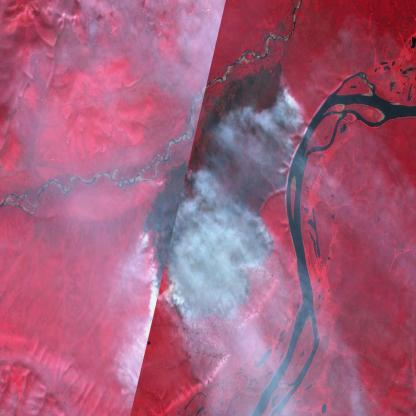fire: (136, 216, 278, 327), (274, 74, 306, 177)
